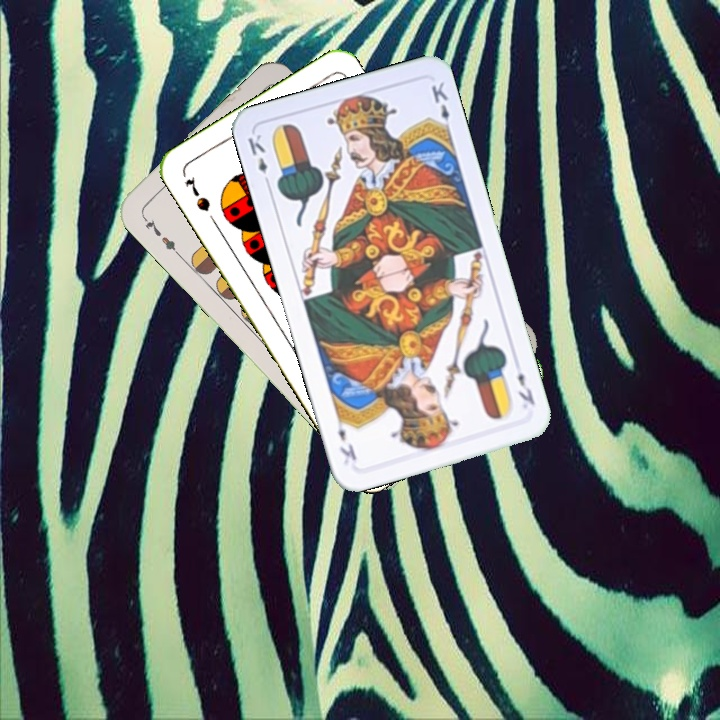E7: (137, 210, 182, 258)
EK: (243, 130, 273, 189), (513, 368, 538, 408)
S7: (181, 172, 213, 214)
